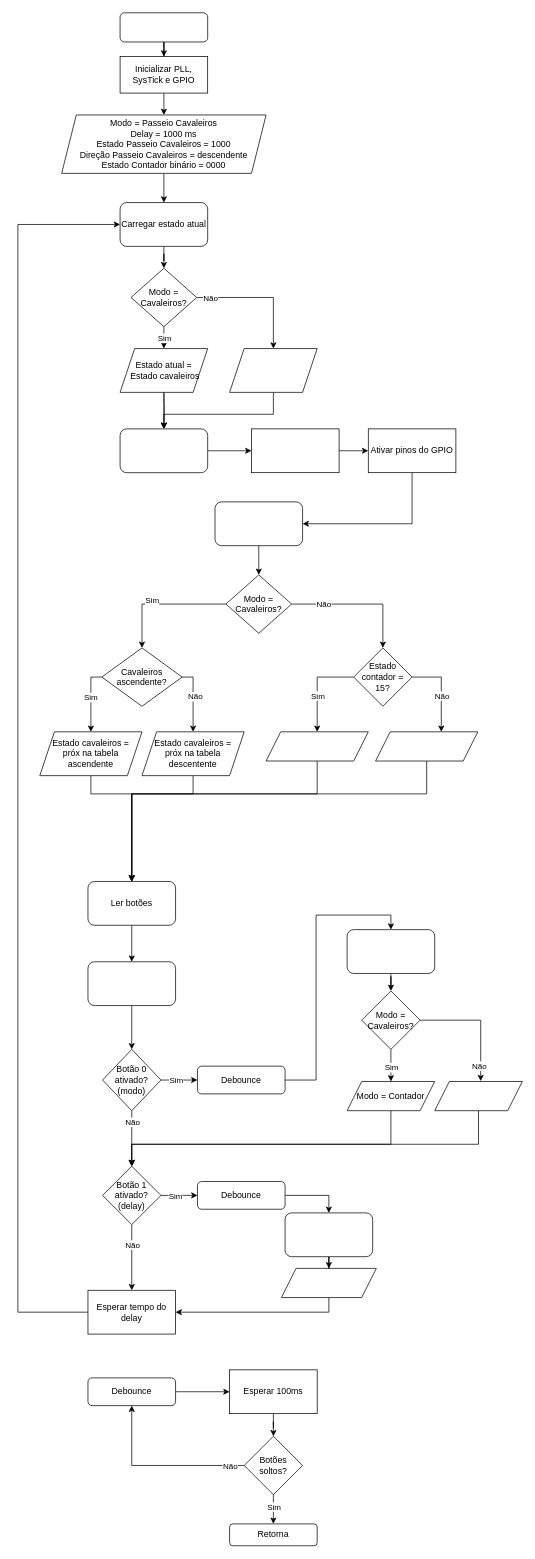
This 535x1559 diagram has some shape labels left out. The centre of each missing label's shape, as x and y in pixels:
"Calcular novo estado" belongs at point (258, 523).
"Converter estado 4-bit para pinos de saída" belongs at point (295, 450).
"Delay = próx delay tabela" belongs at point (328, 1283).
"Display LED" belongs at point (163, 450).
"Estado atual = Estado contador" belongs at point (273, 370).
"Estado contador = 0" belongs at point (316, 746).
"Estado contador = contador + 1" belongs at point (426, 746).
"Inicio" belongs at point (163, 27).
"Interpretar inputs dos botões" belongs at point (131, 983).
"Modo = Cavaleiros" belongs at point (478, 1096).
"Mudar delay" belongs at point (328, 1234).
"Mudar modo" belongs at point (390, 951).
